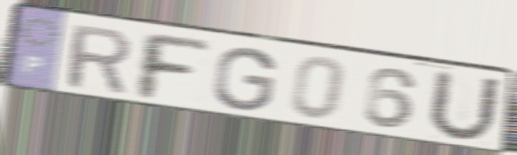0: (286, 55, 350, 124)
6: (362, 66, 421, 131)
F: (136, 28, 213, 104)
G: (210, 45, 280, 113)
R: (64, 22, 134, 97)
U: (424, 67, 505, 145)
